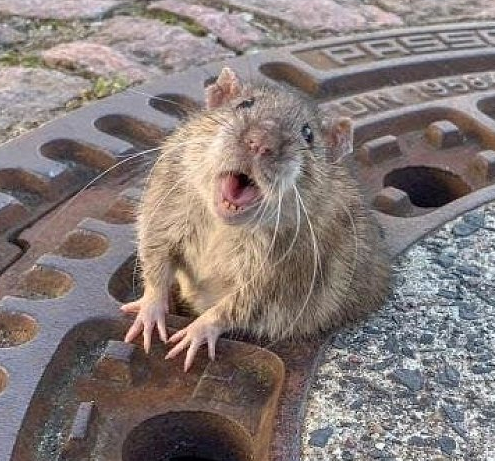rat: (109, 52, 425, 388)
